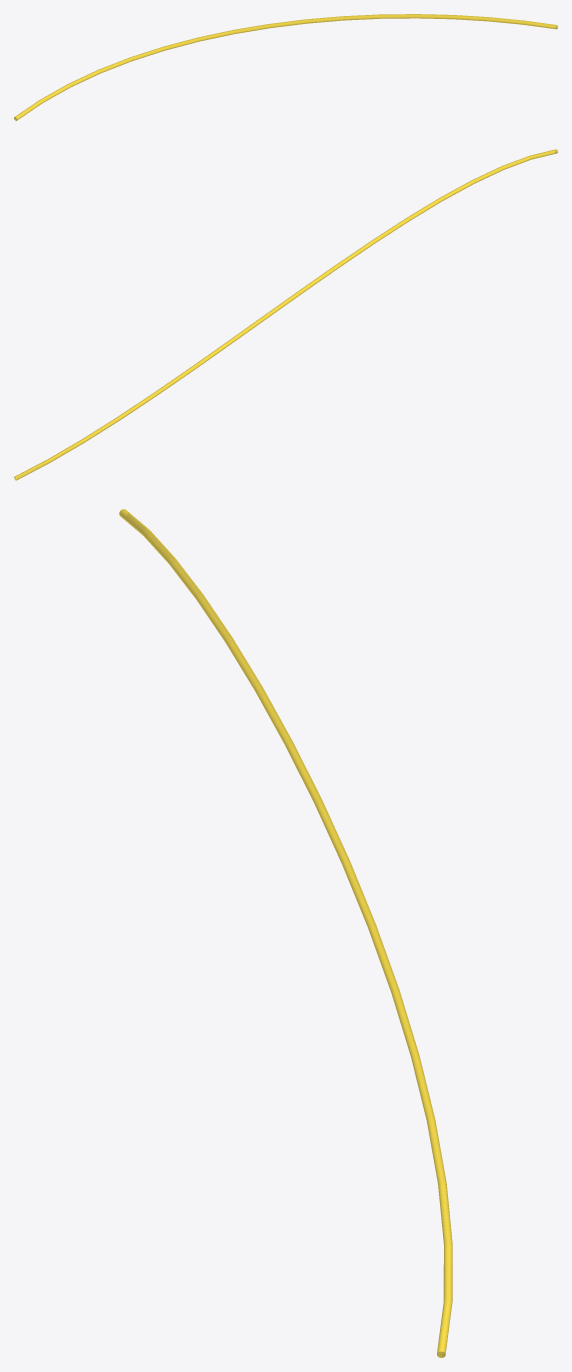
File: Event_17758602_track_71.fbx
3 views of the same model, one above another, from view 1: azimuth 30°, elevation 25°; view 2: azimuth 210°, elevation 25°; view 3: azimuth 270°, elevation 25° (orthographic). The views are drawn at different scales.
Visible parts, largest first — view 1: Model; view 2: Model; view 3: Model.
Part boxes in pixels (x1,y1,x2,y2): Model: [14, 14, 557, 120]; Model: [14, 149, 557, 480]; Model: [119, 509, 452, 1357].
Size of the model in its own units: 6.52 by 1.3 by 1.51.
